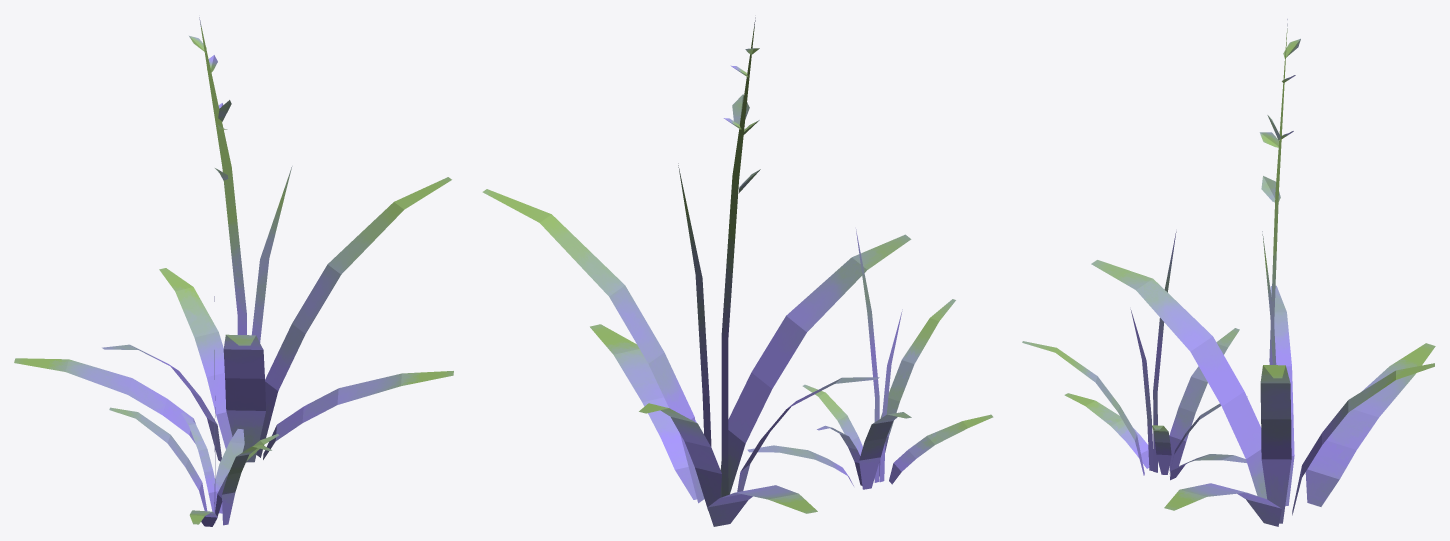
The model's file is grass2.fbx.
The picture shows the model from 3 angles, left to right: view 1: azimuth 30°, elevation 25°; view 2: azimuth 150°, elevation 25°; view 3: azimuth 270°, elevation 25°; orthographic projection. The views are drawn at different scales.
Visible parts, largest first — view 1: Cube.029.frozen.001; view 2: Cube.029.frozen.001; view 3: Cube.029.frozen.001.
Part boxes in pixels (box(x1,y1,x2,y2)): Cube.029.frozen.001: box(14, 17, 453, 526); Cube.029.frozen.001: box(482, 17, 993, 526); Cube.029.frozen.001: box(1022, 19, 1435, 526).
Bounding box in the file's own units: 196 × 230 × 179.
1 material, 1 textured.
